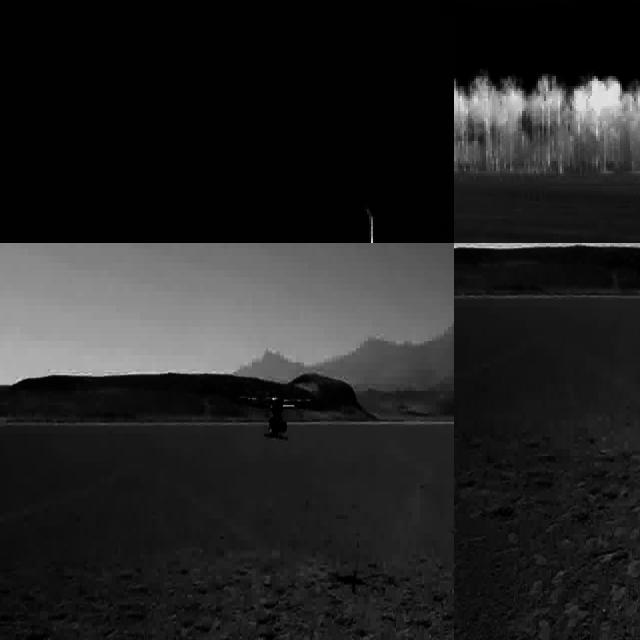drone: (240, 396, 309, 440)
